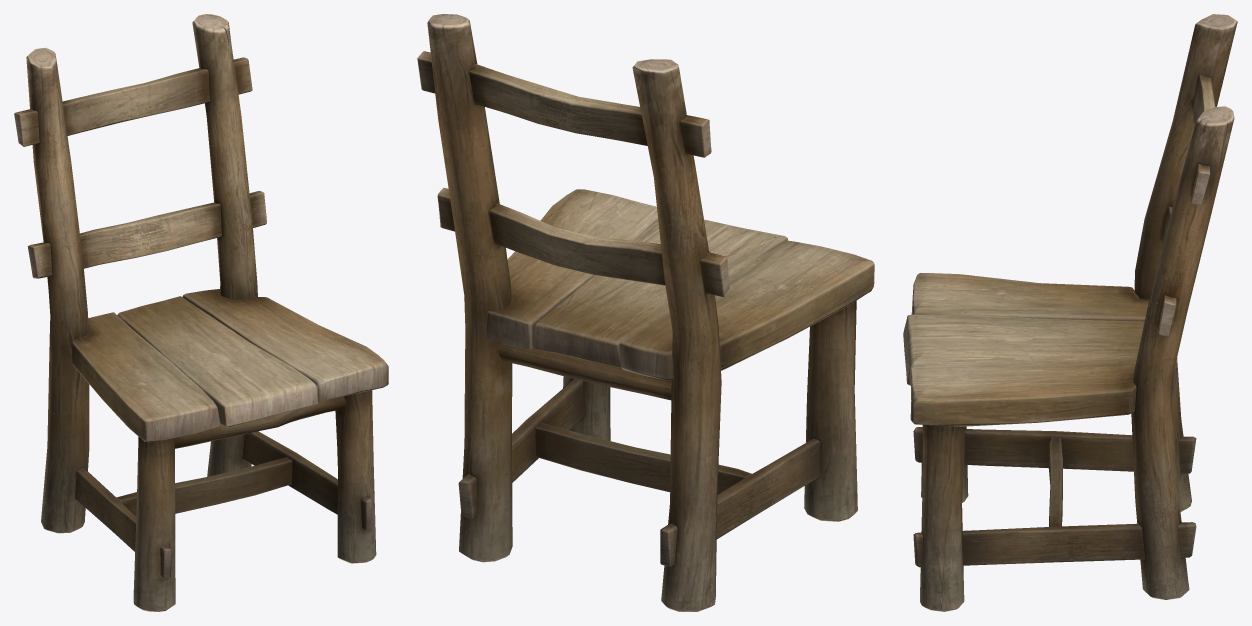
3 views of the same model, side by side, from view 1: azimuth 30°, elevation 25°; view 2: azimuth 150°, elevation 25°; view 3: azimuth 270°, elevation 25° (orthographic). The views are drawn at different scales.
Visible parts, largest first — view 1: SM_Chair_Table_01v1_LOD0; view 2: SM_Chair_Table_01v1_LOD0; view 3: SM_Chair_Table_01v1_LOD0.
Boxes of the visible parts, x1,y1,x2,y2 form: SM_Chair_Table_01v1_LOD0: (14, 14, 388, 611); SM_Chair_Table_01v1_LOD0: (417, 14, 874, 611); SM_Chair_Table_01v1_LOD0: (903, 14, 1237, 611).
Bounding box in the file's own units: 0.6307 × 1.12 × 0.6981.
Materials: 1 (1 with a texture image).
